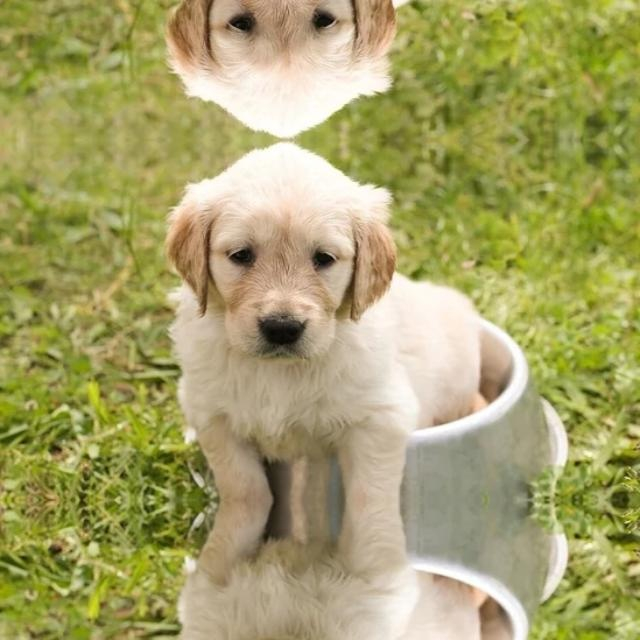dog: (153, 139, 408, 377), (154, 0, 409, 139), (154, 621, 409, 640)
